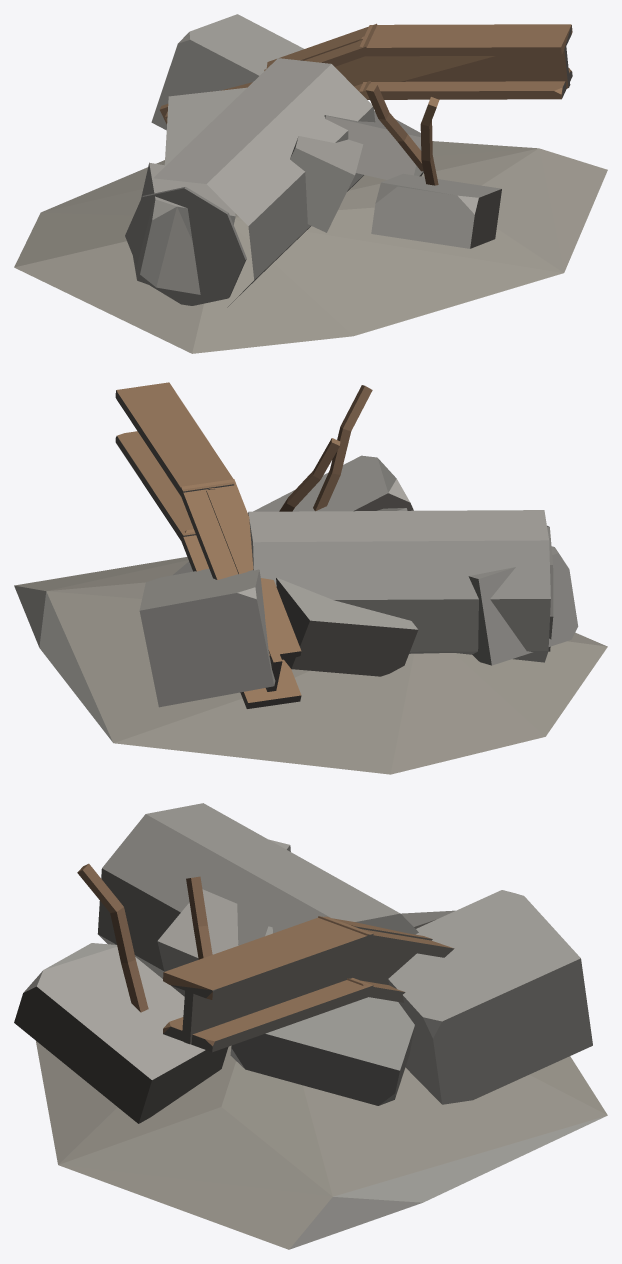
File: rubble_2.glb
3 renders of one model, top to bottom at view 1: azimuth 30°, elevation 25°; view 2: azimuth 150°, elevation 25°; view 3: azimuth 270°, elevation 25°, orthographic. The views are drawn at different scales.
Parts seen in each view (by area): view 1: Body; view 2: Body; view 3: Body.
Part boxes in pixels (x1,y1,x2,y2): Body: (14, 14, 607, 353); Body: (14, 382, 607, 774); Body: (14, 803, 607, 1249).
Size of the model in its own units: 3.49 by 1.18 by 2.71.
